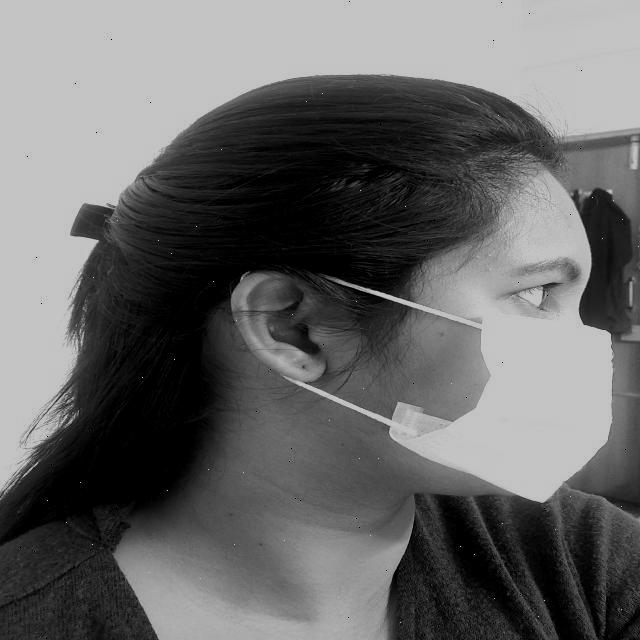fake: (378, 317, 618, 512)
real: (418, 160, 597, 513)
